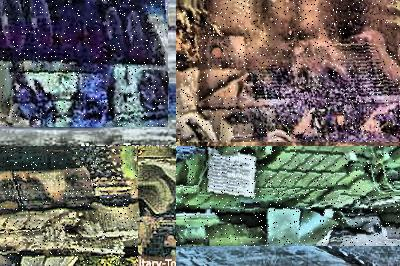tanks: (177, 3, 400, 143), (177, 147, 400, 247), (1, 1, 168, 127), (1, 151, 139, 266), (110, 147, 177, 252)
